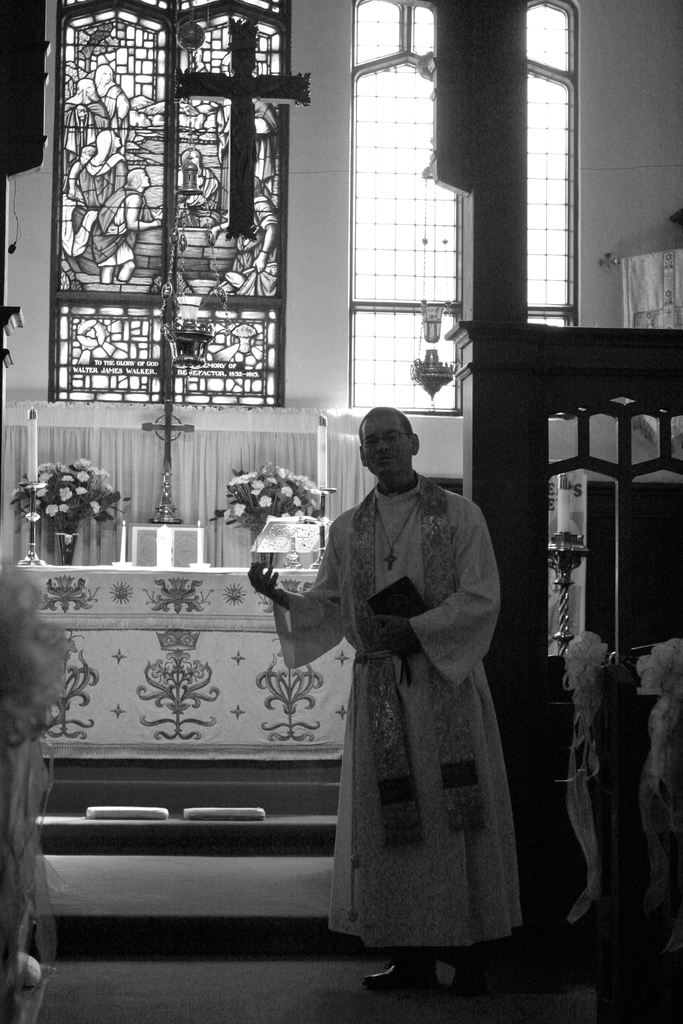Window: (356, 0, 459, 416), (517, 0, 600, 340)
